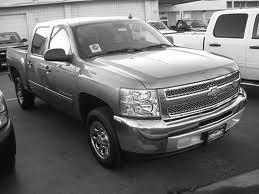car: (8, 21, 247, 170)
